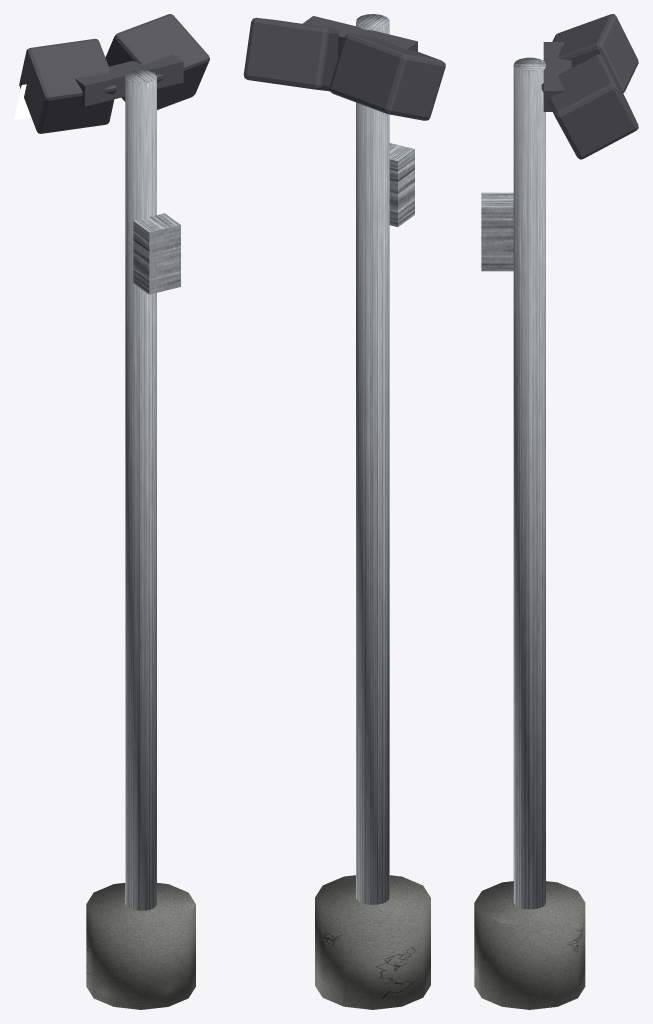
The model's file is WK_LGT_FloodLight.glb.
The picture shows the model from 3 angles, left to right: view 1: azimuth 30°, elevation 25°; view 2: azimuth 150°, elevation 25°; view 3: azimuth 270°, elevation 25°; orthographic projection. The views are drawn at different scales.
Parts seen in each view (by area): view 1: WK_LGT_FloodLight_P01, WK_LGT_FloodLight_P02, WK_LGT_FloodLight_P04, WK_LGT_FloodLight_P06, WK_LGT_FloodLight_P08, WK_LGT_FloodLight_P03; view 2: WK_LGT_FloodLight_P01, WK_LGT_FloodLight_P02, WK_LGT_FloodLight_P04, WK_LGT_FloodLight_P06, WK_LGT_FloodLight_P08, WK_LGT_FloodLight_P03; view 3: WK_LGT_FloodLight_P01, WK_LGT_FloodLight_P02, WK_LGT_FloodLight_P06, WK_LGT_FloodLight_P04, WK_LGT_FloodLight_P08, WK_LGT_FloodLight_P03.
Boxes of the visible parts, box(x1,y1,x2,y2) form: WK_LGT_FloodLight_P01: box(125, 70, 156, 910); WK_LGT_FloodLight_P02: box(86, 882, 195, 1009); WK_LGT_FloodLight_P04: box(19, 38, 116, 133); WK_LGT_FloodLight_P06: box(105, 14, 209, 109); WK_LGT_FloodLight_P08: box(133, 213, 180, 294); WK_LGT_FloodLight_P03: box(75, 54, 183, 106); WK_LGT_FloodLight_P01: box(356, 14, 389, 904); WK_LGT_FloodLight_P02: box(315, 875, 430, 1009); WK_LGT_FloodLight_P04: box(329, 33, 445, 120); WK_LGT_FloodLight_P06: box(243, 17, 340, 91); WK_LGT_FloodLight_P08: box(389, 143, 414, 226); WK_LGT_FloodLight_P03: box(302, 16, 417, 57); WK_LGT_FloodLight_P01: box(513, 57, 545, 909); WK_LGT_FloodLight_P02: box(474, 881, 585, 1009); WK_LGT_FloodLight_P06: box(541, 54, 638, 159); WK_LGT_FloodLight_P04: box(543, 14, 638, 93); WK_LGT_FloodLight_P08: box(481, 192, 513, 271); WK_LGT_FloodLight_P03: box(543, 42, 571, 111).
Bounding box in the file's own units: 0.8387 × 4.47 × 0.7099.
Materials: 4 (2 with a texture image).
